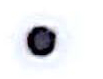cancer: (10, 9, 79, 73)
